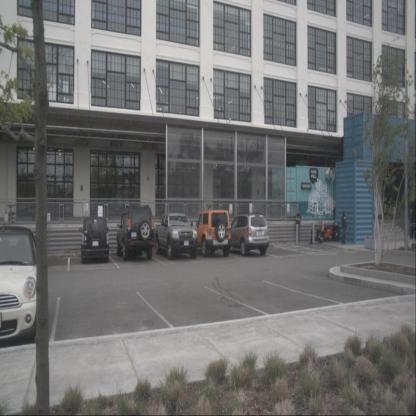human-pedestrian-adult: (342, 210, 348, 244), (296, 210, 301, 244)
vehicle-car: (0, 226, 44, 345), (116, 206, 156, 261), (223, 214, 270, 257), (192, 210, 231, 257), (81, 216, 109, 264)
vehicle-motorcycle: (310, 215, 325, 244), (318, 216, 333, 243)
vehicle-truck: (154, 212, 197, 260)
